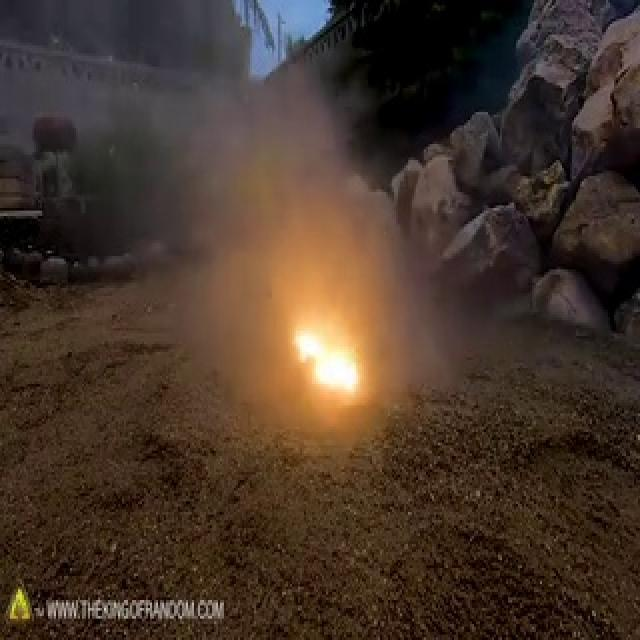fire: (284, 317, 368, 403)
